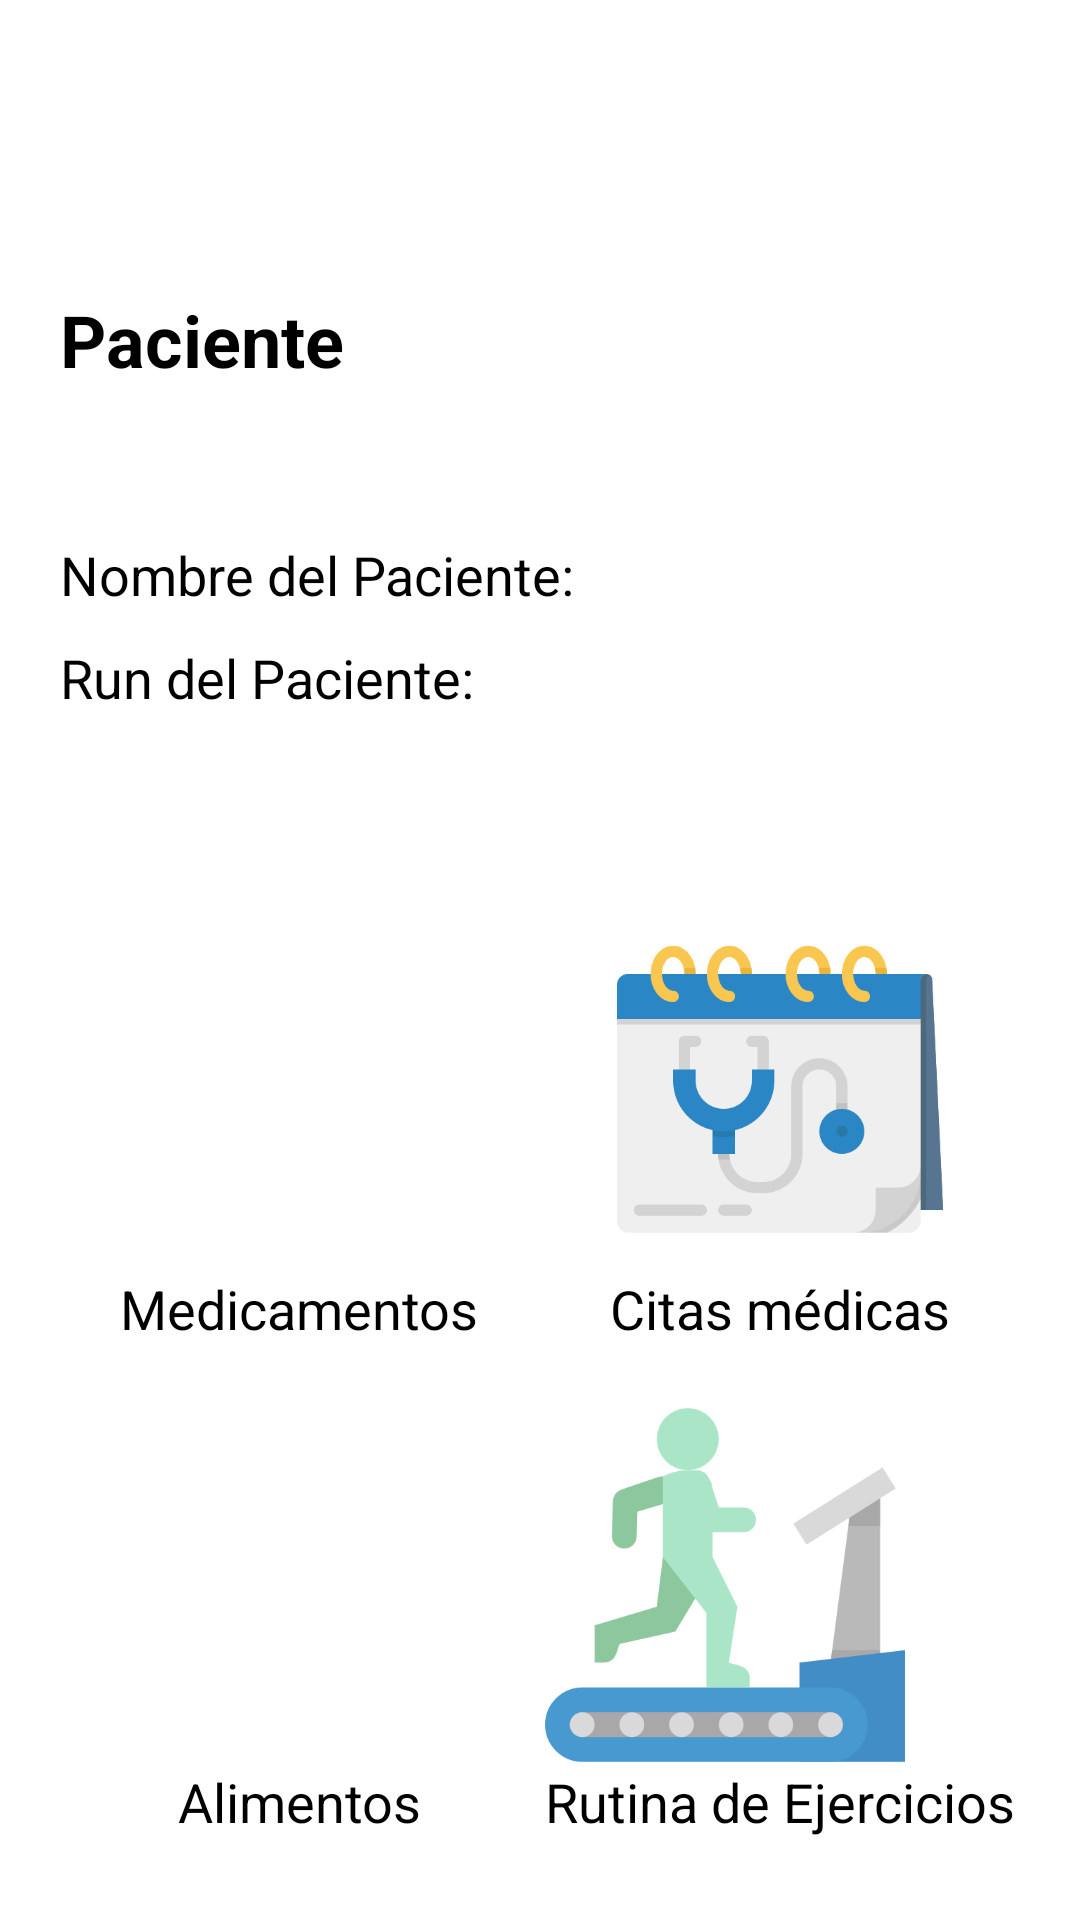

Screen size 1080px x 1920px. Icon name, then its box in pixels as [left=x1, top=y1, right=x2, bottom=y2]:
andador: [left=545, top=1408, right=905, bottom=1762]
